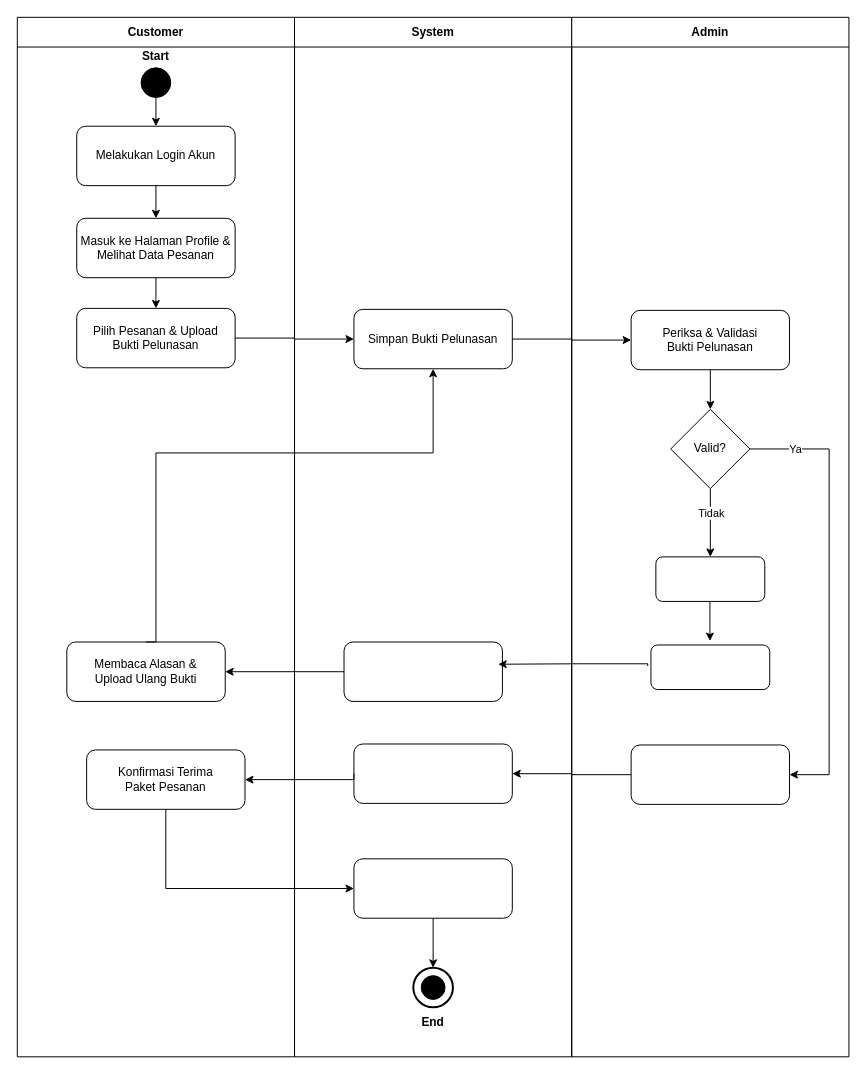
The diagram is 866 pixels wide and 1074 high, and some of its shapes have lost their labels. Each missing label, with the centre of its shape:
"Input Alasan Penolakan" belongs at point 710,667.
"Kirim Pesanan ke Ekspedisi" belongs at point 710,774.
"Set Status Pesanan: COMPLETED" belongs at point 432,888.
"Set Status Pesanan: SHIPPED" belongs at point 432,773.
"Set Status: REJECTED & Simpan Alasan" belongs at point 422,671.
"Tolak Pembayaran" belongs at point 710,578.
